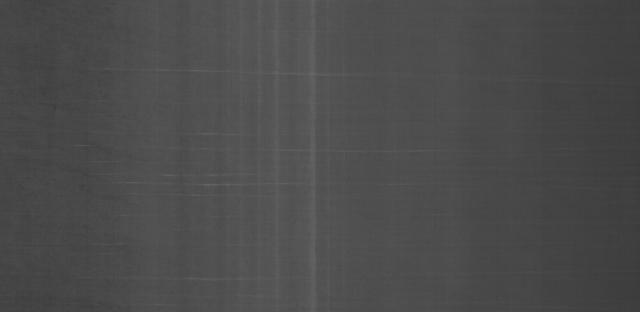waist_folding: (151, 17, 369, 309)
